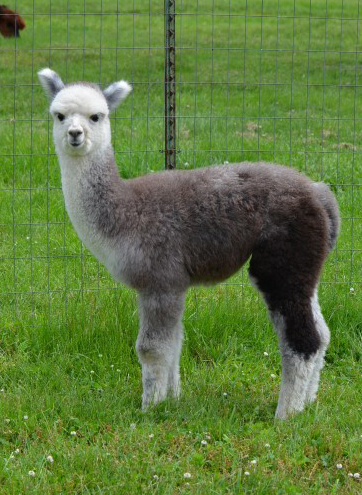alpaca: (36, 66, 342, 424)
